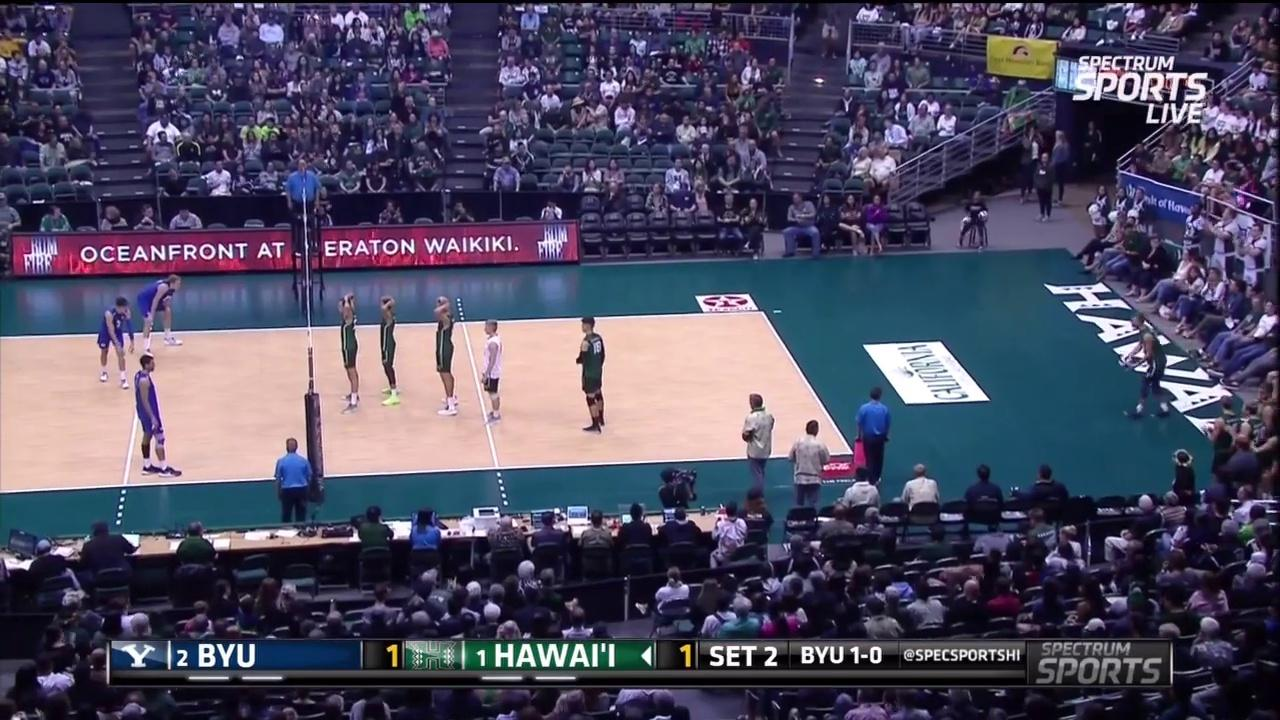player: (1116, 312, 1167, 423), (132, 357, 177, 476), (577, 320, 610, 434), (432, 294, 462, 409), (137, 274, 181, 352), (336, 292, 365, 409), (97, 297, 131, 384), (475, 324, 503, 422), (378, 294, 400, 403)
refree: (851, 386, 891, 486), (273, 436, 316, 526), (286, 153, 322, 249)
